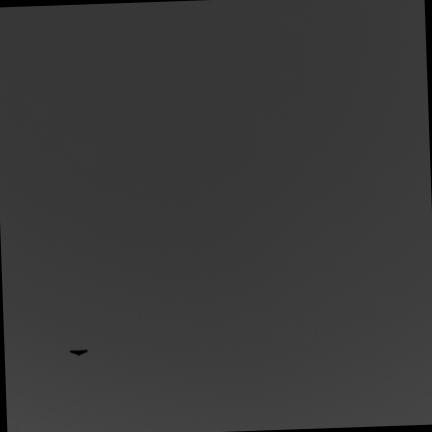Shahed: (70, 350, 87, 355)
